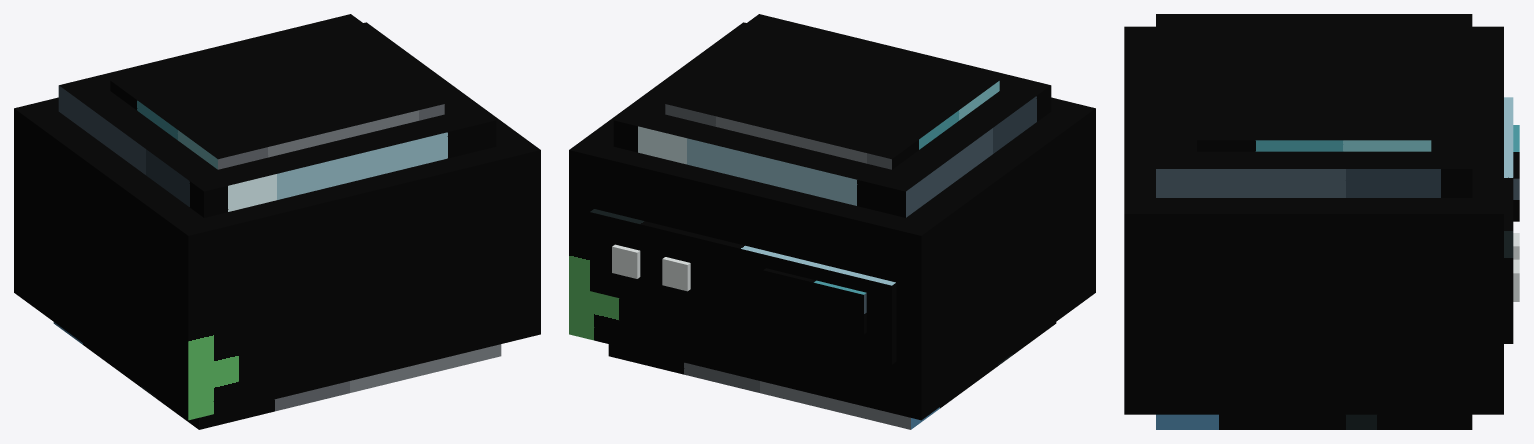
File: lab_centrifuge.obj
3 views of the same model, side by side, from view 1: azimuth 30°, elevation 25°; view 2: azimuth 150°, elevation 25°; view 3: azimuth 270°, elevation 25° (orthographic). The views are drawn at different scales.
Bounding box in the file's own units: 0.875 × 0.5875 × 0.7812.
